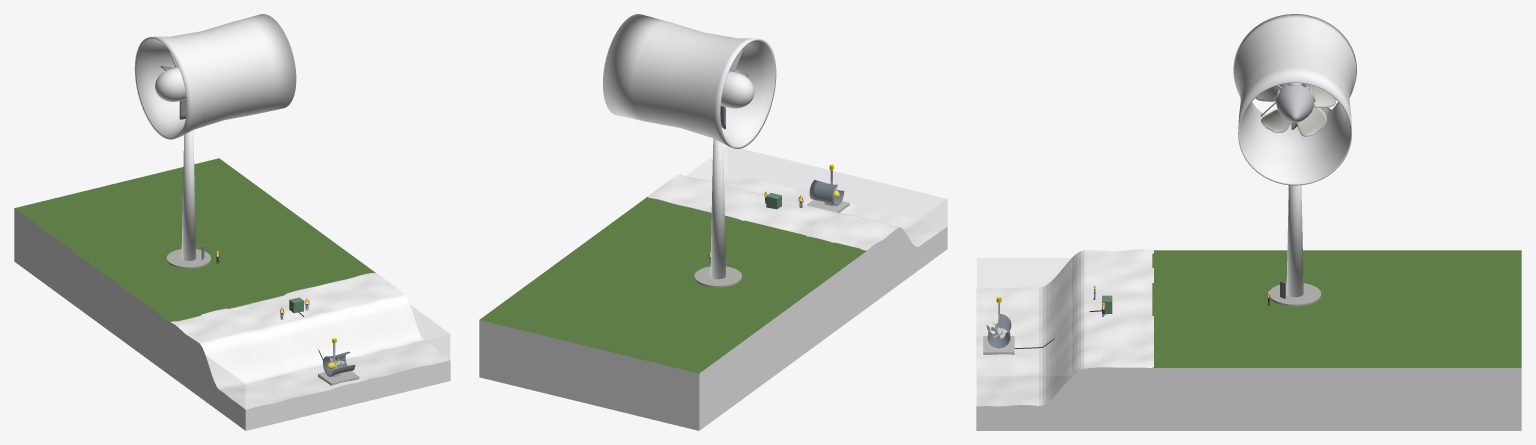
The model's file is kaplan.glb.
The picture shows the model from 3 angles, left to right: view 1: azimuth 30°, elevation 25°; view 2: azimuth 150°, elevation 25°; view 3: azimuth 270°, elevation 25°; orthographic projection. The views are drawn at different scales.
Parts seen in each view (by area): view 1: Wind_Site_Ground, Riverbed, River_Water, Wind_Kaplan_Duct, Wind_Tower, Wind_Kaplan_Bulb_Nacelle, Wind_Foundation; view 2: Wind_Site_Ground, Wind_Kaplan_Duct, Riverbed, River_Water, Wind_Tower, Wind_Kaplan_Bulb_Nacelle, Wind_Foundation, River_Kaplan_Duct; view 3: Wind_Site_Ground, Riverbed, Wind_Kaplan_Duct, River_Water, Wind_Tower, Wind_Kaplan_Runner_Hub, Wind_Foundation, Wind_Kaplan_Blade_3.
Boxes of the visible parts, x1,y1,x2,y2 form: Wind_Site_Ground: (14, 158, 375, 375); Riverbed: (170, 273, 450, 430); River_Water: (203, 304, 449, 408); Wind_Kaplan_Duct: (134, 14, 296, 139); Wind_Tower: (181, 130, 196, 260); Wind_Kaplan_Bulb_Nacelle: (155, 67, 186, 101); Wind_Foundation: (166, 249, 210, 268); Wind_Site_Ground: (479, 196, 867, 430); Wind_Kaplan_Duct: (603, 14, 776, 148); Riverbed: (648, 173, 947, 307); River_Water: (686, 146, 947, 259); Wind_Tower: (710, 138, 725, 279); Wind_Kaplan_Bulb_Nacelle: (721, 71, 754, 108); Wind_Foundation: (694, 266, 741, 287); River_Kaplan_Duct: (809, 180, 844, 205); Wind_Site_Ground: (1152, 250, 1521, 430); Riverbed: (976, 249, 1153, 430); Wind_Kaplan_Duct: (1233, 14, 1356, 185); River_Water: (977, 258, 1072, 406); Wind_Tower: (1286, 185, 1303, 297); Wind_Kaplan_Runner_Hub: (1276, 83, 1313, 122); Wind_Foundation: (1269, 283, 1321, 306); Wind_Kaplan_Blade_3: (1296, 105, 1326, 136).
Size of the model in its own units: 32 by 41.6 by 62.6.
